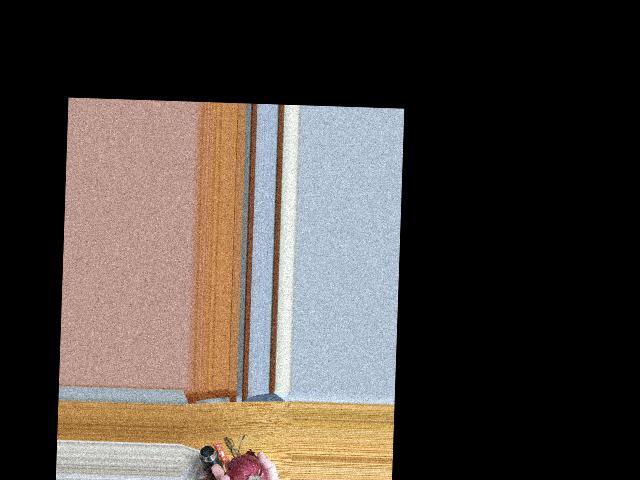onion: (226, 458, 269, 480)
